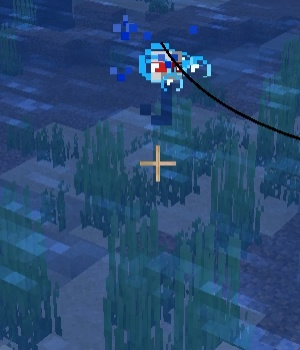up: (137, 45, 185, 132)
